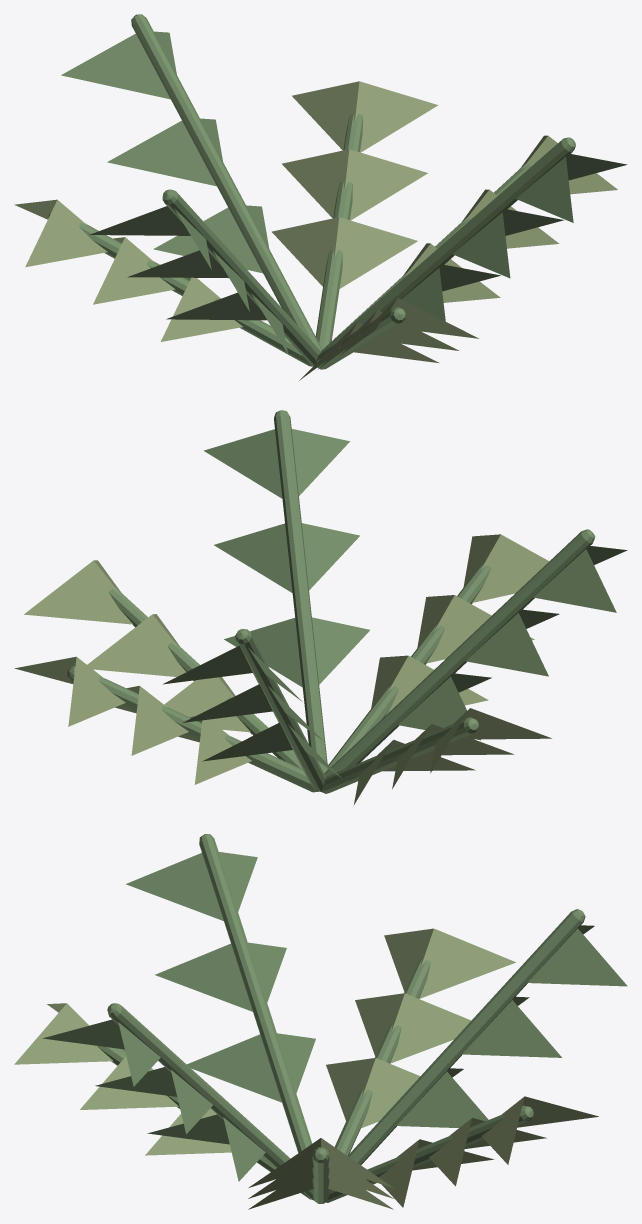
The model's file is fern-clump.glb.
The picture shows the model from 3 angles, top to bottom: view 1: azimuth 30°, elevation 25°; view 2: azimuth 150°, elevation 25°; view 3: azimuth 270°, elevation 25°; orthographic projection.
Parts seen in each view (by area): view 1: fern-clump_Discovery_Mesh; view 2: fern-clump_Discovery_Mesh; view 3: fern-clump_Discovery_Mesh.
Part boxes in pixels (<box>): fern-clump_Discovery_Mesh: <box>14,14,626,380</box>; fern-clump_Discovery_Mesh: <box>14,410,627,805</box>; fern-clump_Discovery_Mesh: <box>14,834,627,1209</box>.
Bounding box in the file's own units: 0.9362 × 0.4587 × 0.9603.
